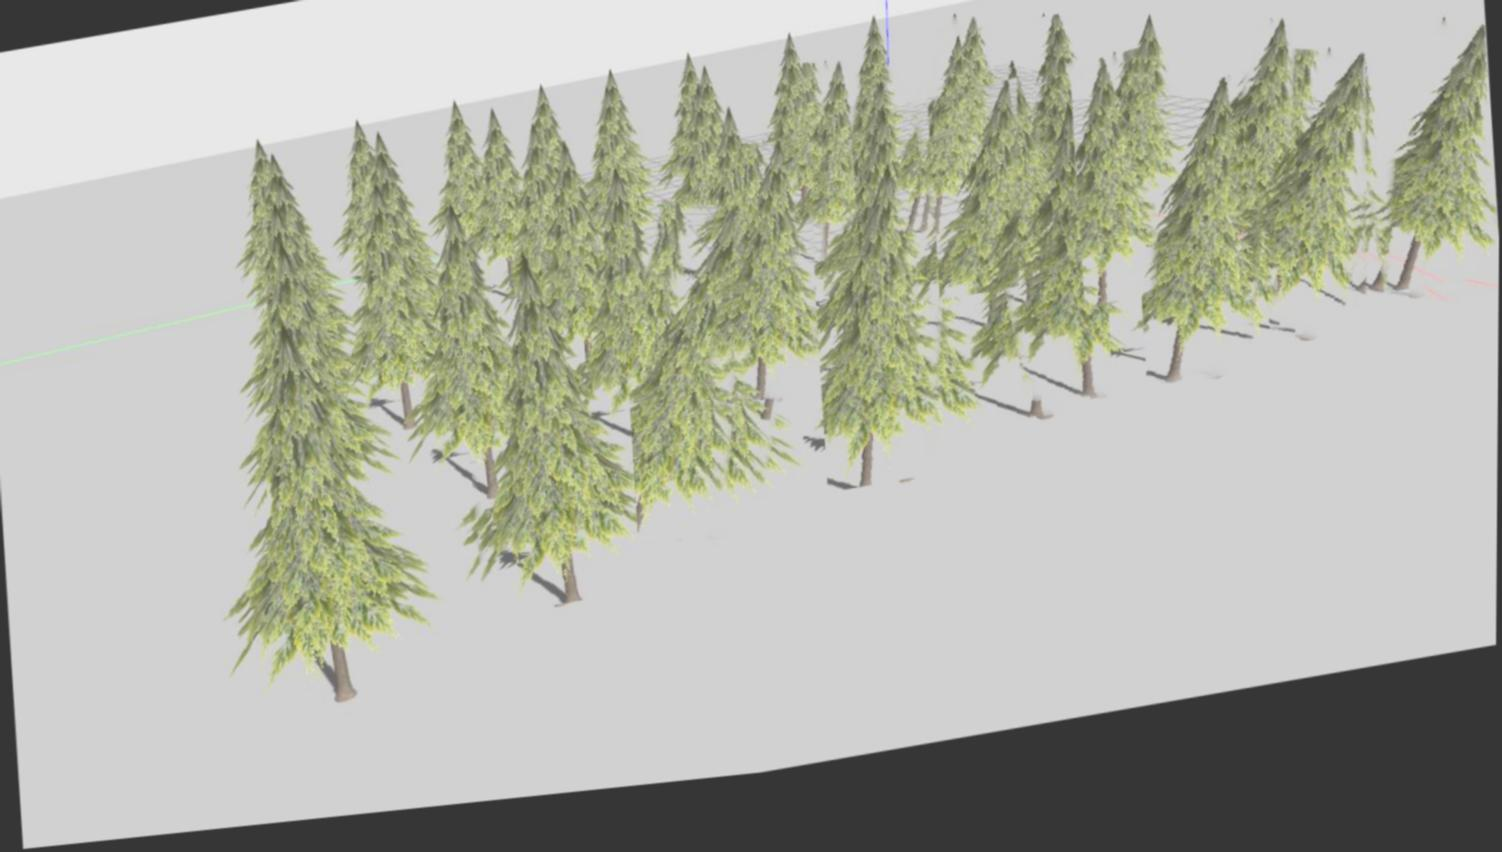tree_gazebo: (474, 274, 636, 616), (816, 93, 944, 504), (611, 224, 740, 561), (1002, 37, 1110, 425), (1139, 104, 1262, 407), (1370, 58, 1495, 322), (1261, 83, 1364, 357), (729, 158, 817, 417), (1074, 85, 1158, 327), (937, 102, 1016, 316), (919, 38, 984, 244), (793, 80, 850, 280), (1240, 46, 1291, 237)
